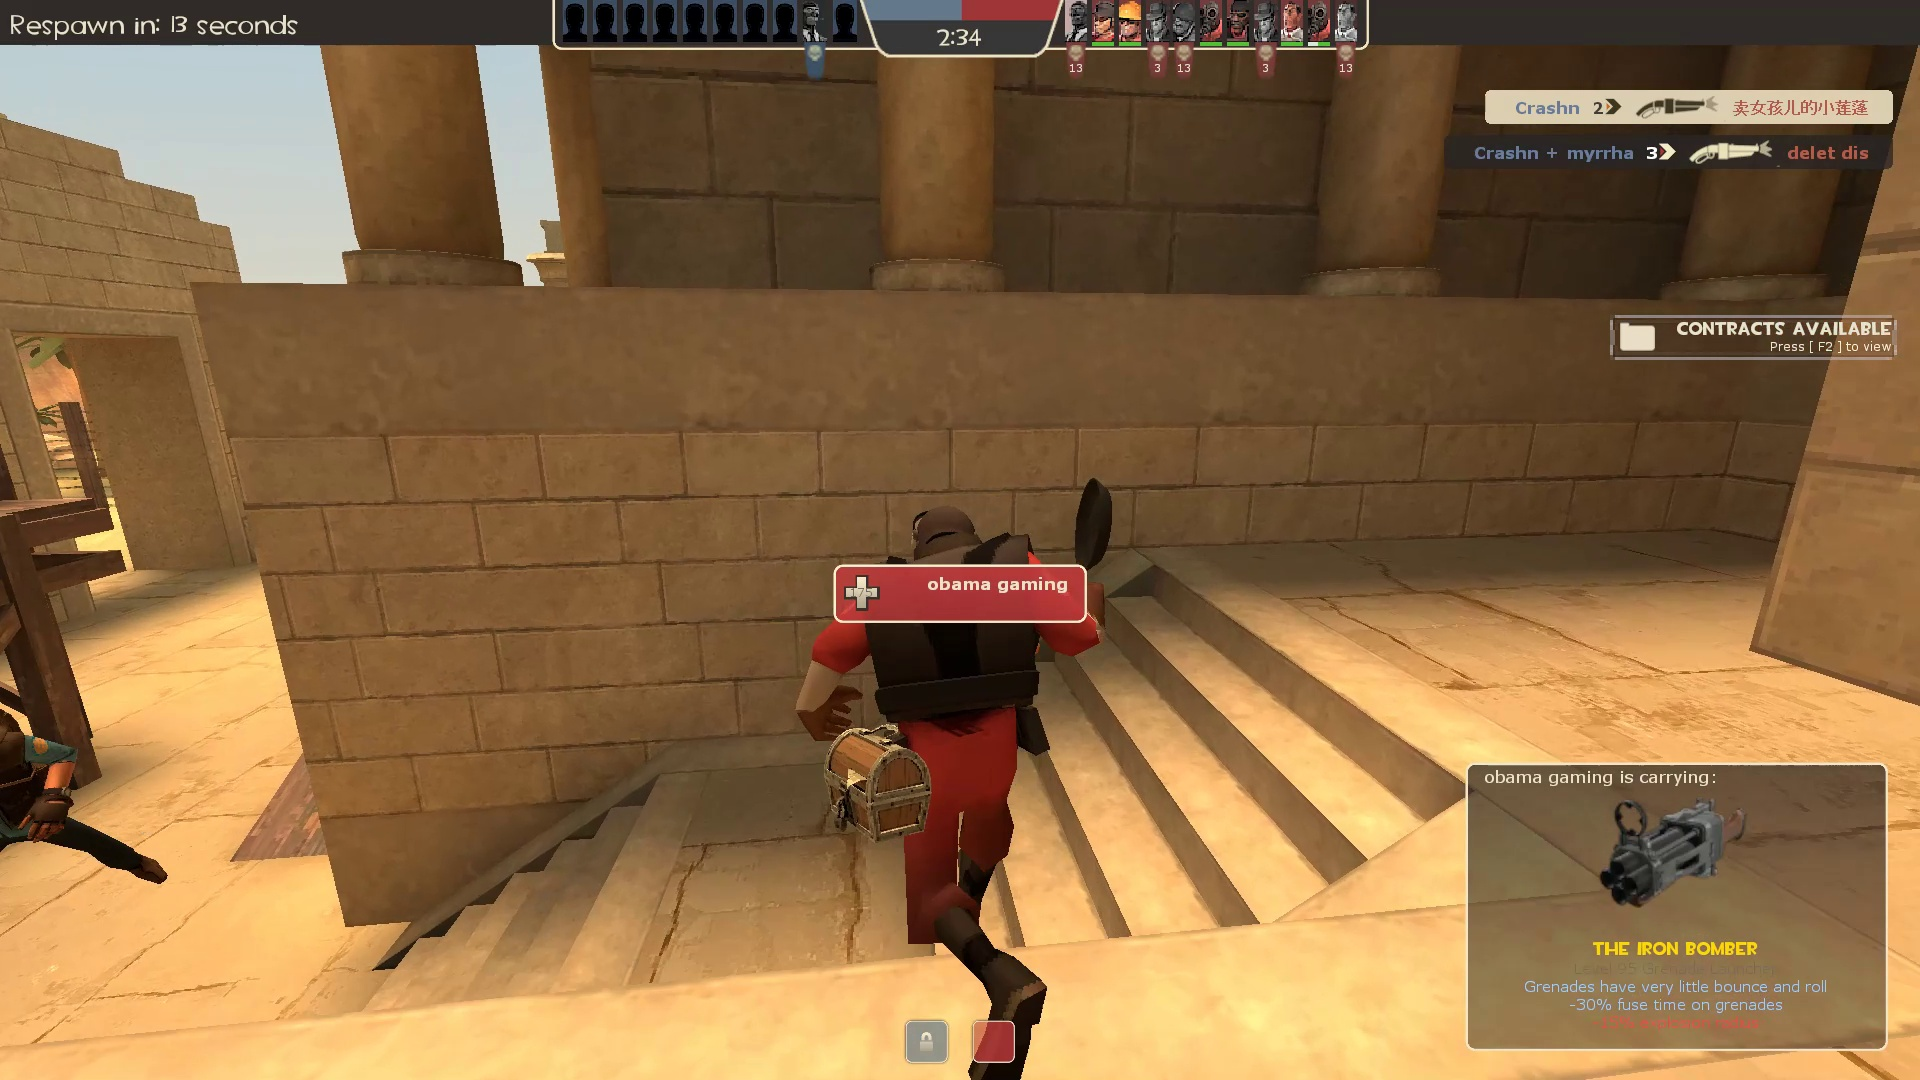blu_sniper: (1, 709, 179, 924)
red_demo: (790, 479, 1149, 1080)
